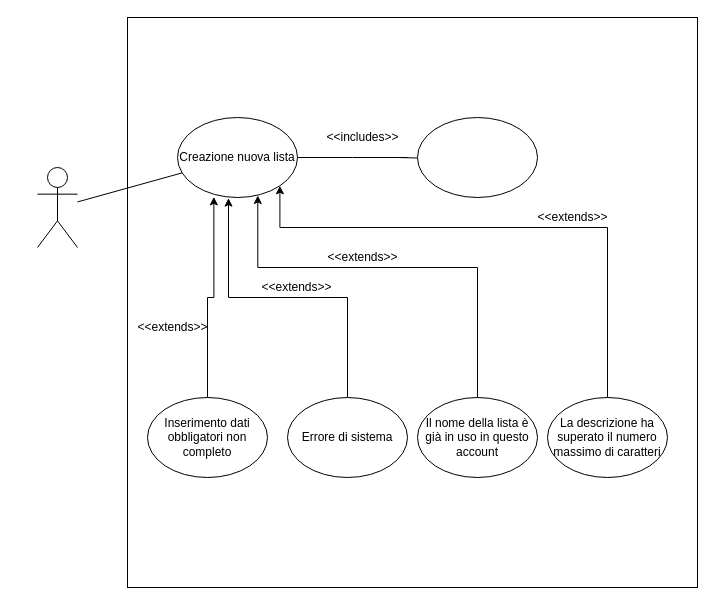
Image size: 715x605. Some labels were removed from this diagram. Each missing label, with the box of its shape:
Utente loggatio: (36, 166, 78, 248)
Visualizzazione pagina dedicata alle liste personali: (416, 116, 538, 198)
